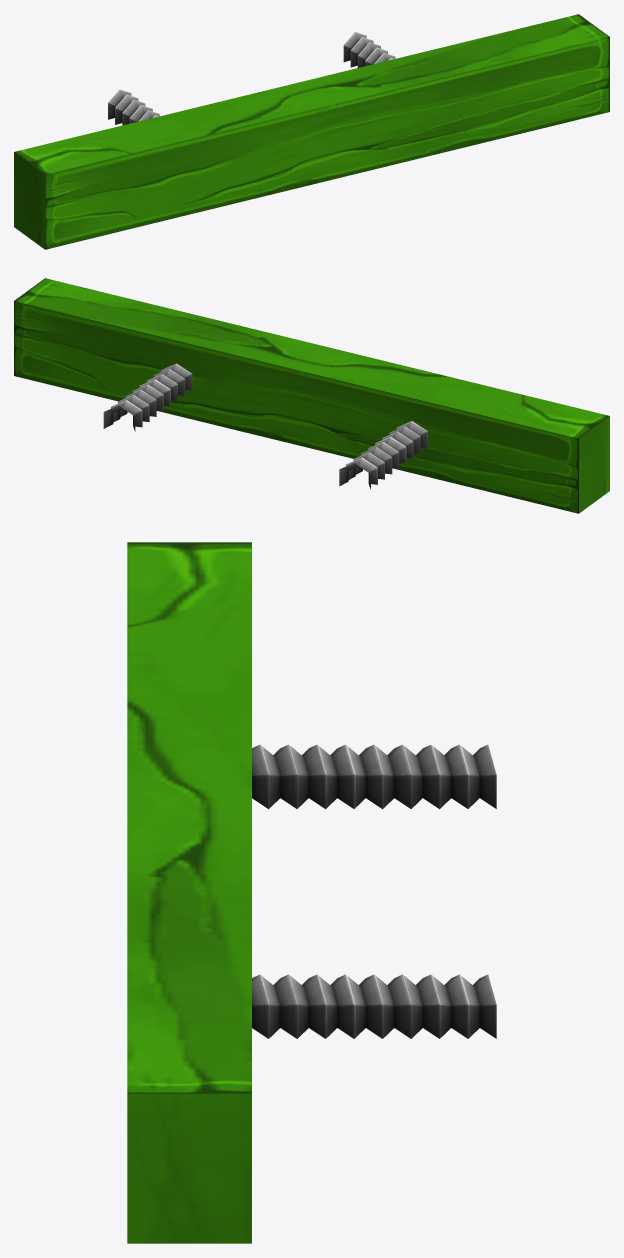
The model's file is wall_green_04.fbx.
3 renders of one model, top to bottom at view 1: azimuth 30°, elevation 25°; view 2: azimuth 150°, elevation 25°; view 3: azimuth 270°, elevation 25°, orthographic. The views are drawn at different scales.
Visible parts, largest first — view 1: wall_4, spring_3, spring_11; view 2: wall_4, spring_3, spring_11; view 3: wall_4, spring_11, spring_3.
Boxes of the visible parts, x1=… form: wall_4: x1=14, y1=14, x2=609, y2=249; spring_3: x1=343, y1=32, x2=395, y2=67; spring_11: x1=108, y1=89, x2=159, y2=125; wall_4: x1=14, y1=278, x2=609, y2=513; spring_3: x1=103, y1=363, x2=192, y2=431; spring_11: x1=339, y1=421, x2=427, y2=489; wall_4: x1=127, y1=542, x2=251, y2=1243; spring_11: x1=252, y1=744, x2=496, y2=809; spring_3: x1=252, y1=974, x2=496, y2=1038.
Bounding box in the file's own units: 315 × 40 × 89.2.
